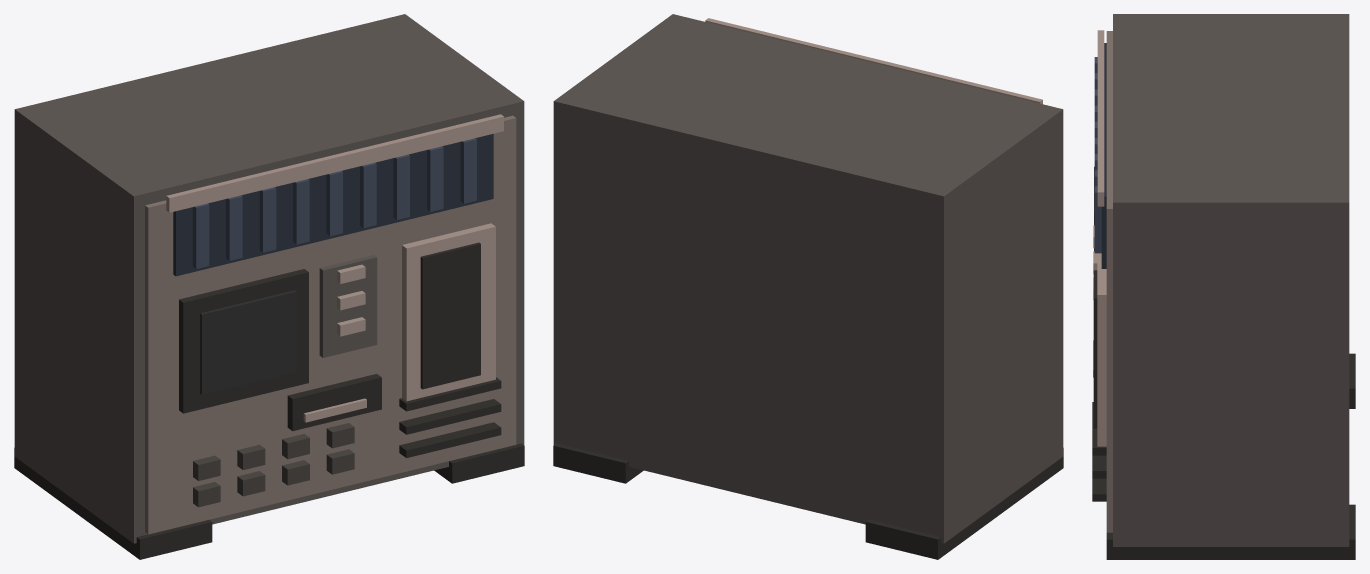
Rendered from CMU3DFusionGenerator.glb.
3 renders of one model, left to right at view 1: azimuth 30°, elevation 25°; view 2: azimuth 150°, elevation 25°; view 3: azimuth 270°, elevation 25°, orthographic.
Parts seen in each view (by area): view 1: broad generator casing, front face plate, upper vent inset, right vertical dark panel, left dark screen, left screen bezel, right vertical panel rim, upper vent header, center control panel, lower right vent slot (×3), left foot skid, lower readout frame (+11 smaller); view 2: broad generator casing, left foot skid, right foot skid, upper vent header; view 3: broad generator casing, right foot skid, front face plate, right vertical panel rim, upper vent header, upper vent inset, right vertical dark panel, lower right vent slot (×2), vent grille bar 9, left foot skid.
Boxes of the visible parts, left/top/right/bottom form: broad generator casing: left=14, top=14, right=524, bottom=543; front face plate: left=145, top=115, right=516, bottom=534; upper vent inset: left=173, top=134, right=493, bottom=276; right vertical dark panel: left=420, top=242, right=480, bottom=389; left dark screen: left=200, top=290, right=296, bottom=394; left screen bezel: left=179, top=269, right=308, bottom=413; right vertical panel rim: left=402, top=223, right=495, bottom=401; upper vent header: left=166, top=114, right=503, bottom=212; center control panel: left=319, top=255, right=377, bottom=357; lower right vent slot (×3): left=399, top=377, right=501, bottom=457; left foot skid: left=14, top=448, right=212, bottom=559; lower readout frame: left=287, top=374, right=381, bottom=431; broad generator casing: left=553, top=14, right=1063, bottom=543; left foot skid: left=865, top=448, right=1063, bottom=559; right foot skid: left=553, top=443, right=643, bottom=483; upper vent header: left=705, top=18, right=1042, bottom=104; broad generator casing: left=1113, top=14, right=1349, bottom=546; right foot skid: left=1106, top=504, right=1355, bottom=559; front face plate: left=1106, top=31, right=1112, bottom=532; right vertical panel rim: left=1097, top=253, right=1106, bottom=446; upper vent header: left=1097, top=30, right=1104, bottom=206; upper vent inset: left=1101, top=43, right=1106, bottom=268; right vertical dark panel: left=1093, top=270, right=1097, bottom=428; lower right vent slot (×2): left=1092, top=455, right=1106, bottom=501; vent grille bar 9: left=1094, top=186, right=1101, bottom=253; left foot skid: left=1349, top=353, right=1355, bottom=408.
Size of the model in its own units: 1.4 by 1.24 by 0.825.
